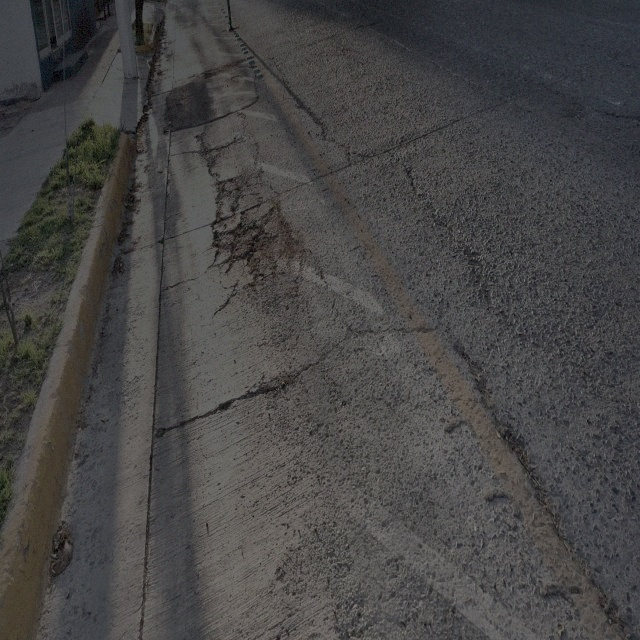pothole: (246, 204, 305, 284)
